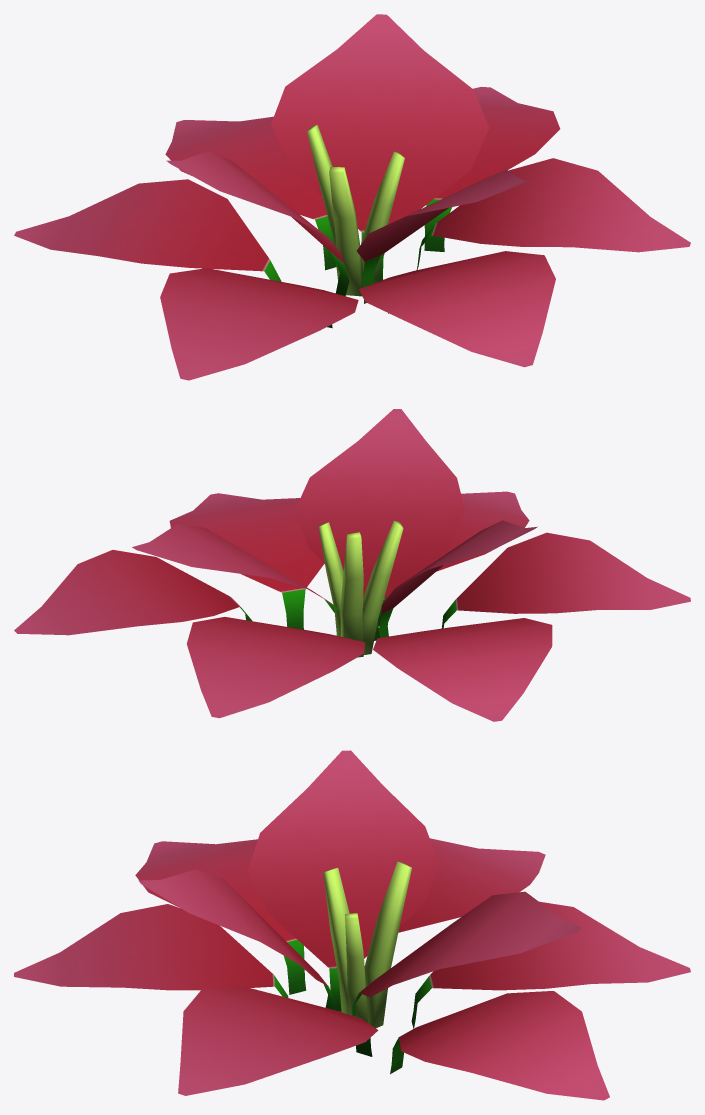
File: flower03.fbx
3 renders of one model, top to bottom at view 1: azimuth 30°, elevation 25°; view 2: azimuth 150°, elevation 25°; view 3: azimuth 270°, elevation 25°, orthographic. The views are drawn at different scales.
Parts seen in each view (by area): view 1: FlowerR2; view 2: FlowerR2; view 3: FlowerR2.
Boxes of the visible parts, x1,y1,x2,y2 form: FlowerR2: [14, 14, 690, 380]; FlowerR2: [14, 409, 690, 721]; FlowerR2: [14, 750, 690, 1100].
Size of the model in its own units: 228 by 73.88 by 252.
